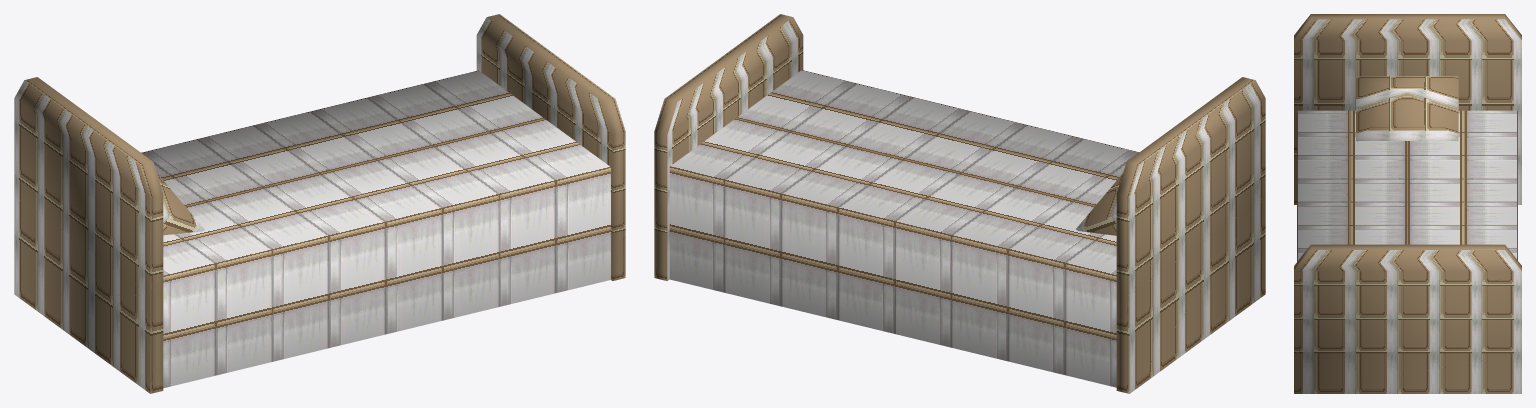
The model's file is 3221IMSD01_07.gltf.
3 views of the same model, side by side, from view 1: azimuth 30°, elevation 25°; view 2: azimuth 150°, elevation 25°; view 3: azimuth 270°, elevation 25° (orthographic). The views are drawn at different scales.
Visible parts, largest first — view 1: 3221IMSD01_07; view 2: 3221IMSD01_07; view 3: 3221IMSD01_07.
Part boxes in pixels (x1,y1,x2,y2): 3221IMSD01_07: (14, 14, 625, 393); 3221IMSD01_07: (654, 14, 1265, 393); 3221IMSD01_07: (1294, 14, 1521, 393).
Size of the model in its own units: 1.94 by 0.863 by 0.9602.
2 materials, 2 textured.
